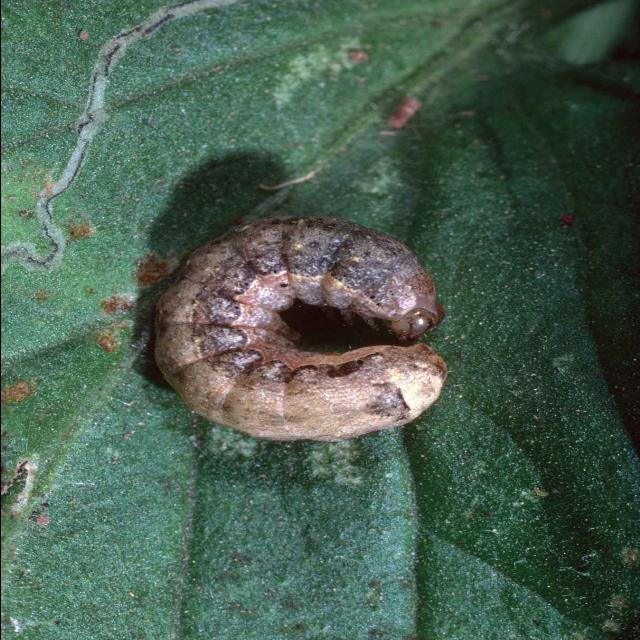cutworm: (150, 217, 450, 449)
